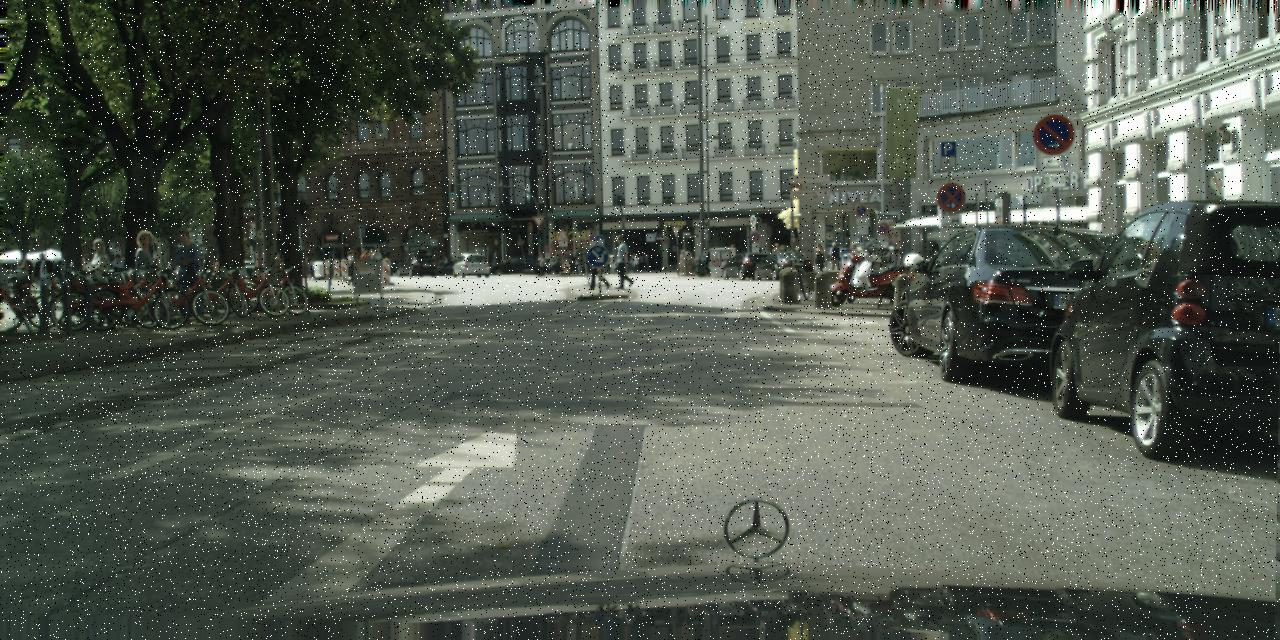ped: (126, 230, 163, 322), (170, 231, 207, 321), (83, 238, 119, 326), (612, 234, 634, 288), (107, 254, 128, 306), (588, 246, 606, 288), (34, 251, 51, 294), (370, 244, 384, 284), (344, 250, 358, 284), (828, 241, 841, 275), (18, 256, 31, 290), (364, 248, 377, 281), (358, 248, 370, 281), (848, 240, 860, 270), (840, 242, 851, 270), (771, 243, 782, 269), (727, 243, 737, 269), (814, 242, 824, 268), (676, 249, 686, 274), (792, 246, 802, 270), (623, 249, 632, 272), (681, 248, 690, 270), (815, 250, 824, 272), (626, 250, 634, 272), (308, 256, 316, 276), (631, 252, 639, 270), (537, 256, 545, 274), (576, 254, 583, 274), (638, 252, 644, 270), (642, 252, 648, 269), (446, 256, 452, 270), (442, 255, 447, 270), (437, 257, 442, 270), (611, 261, 615, 273)
